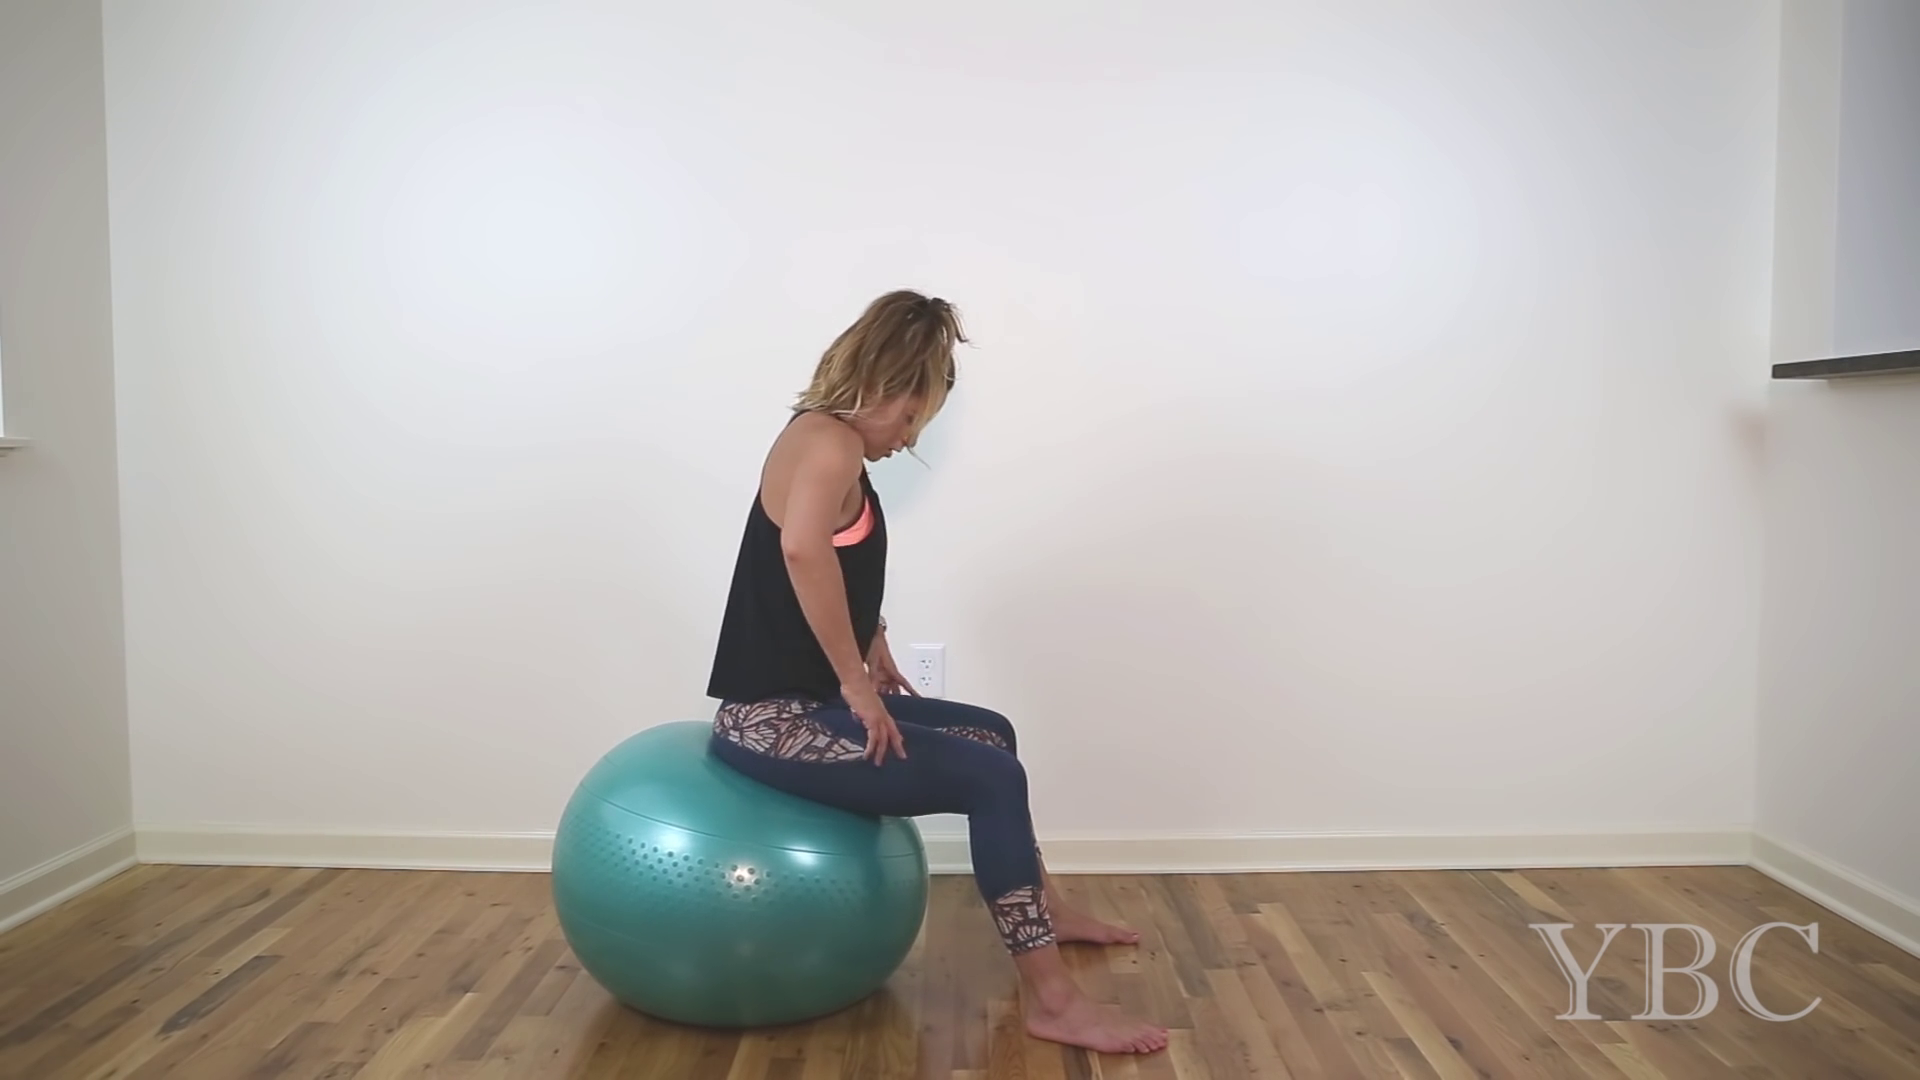yogaball: (533, 708, 951, 1046)
